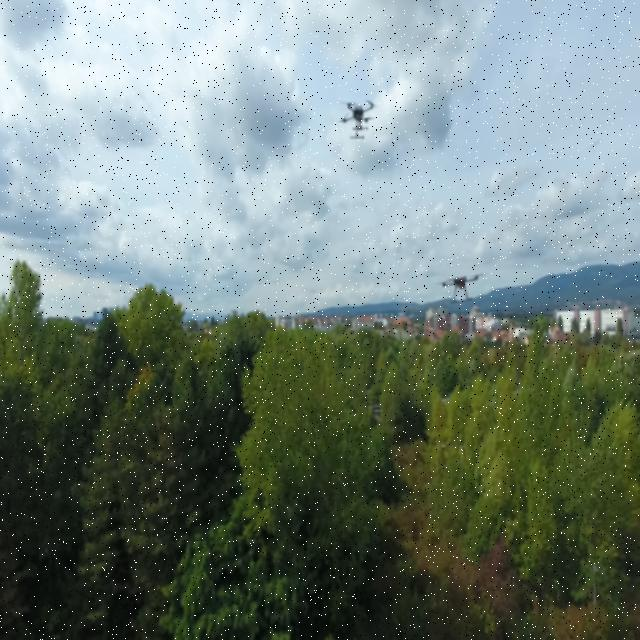UAV: (428, 268, 490, 309), (338, 92, 378, 140)
